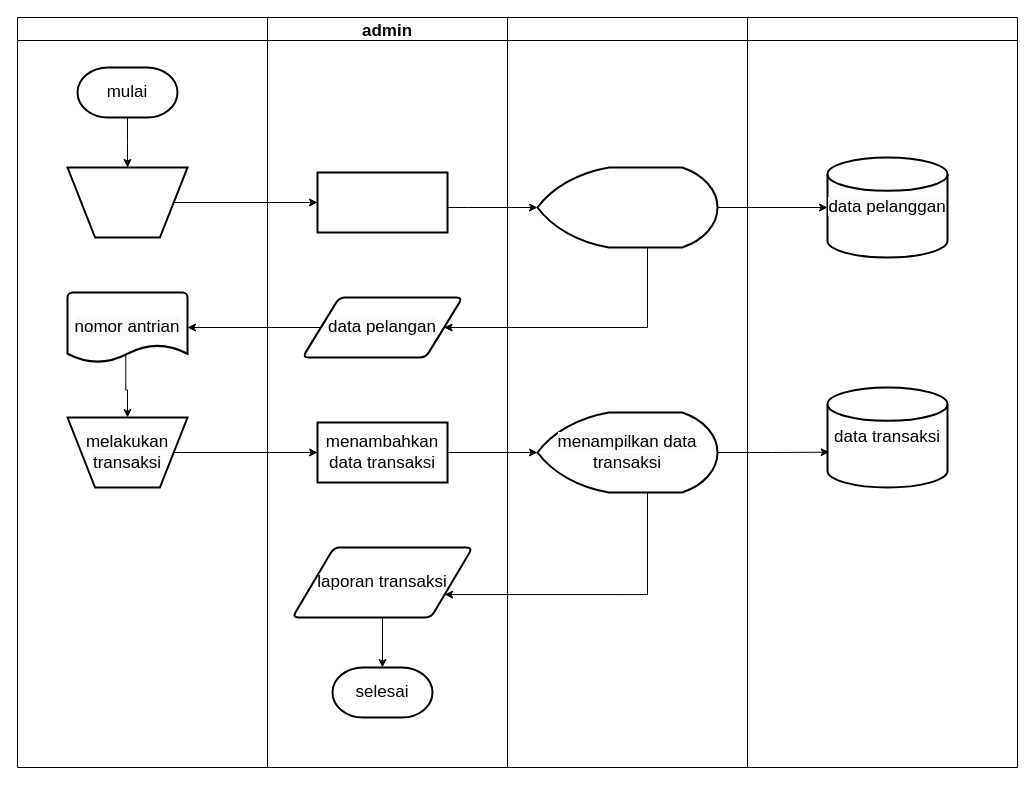
Some shapes in this 1035 by 785 pixel diagram are drawn without their labels. The box of each missing label's shape, as (x1, y1, x2, y2) in pixels:
aplikasi layanan kasir: (506, 16, 748, 768)
database: (746, 16, 1018, 768)
memesan layanan laundry: (66, 166, 188, 238)
menambahkan data pelanggan: (316, 171, 448, 233)
menampilkan data pelanggan: (536, 166, 718, 248)
pelanggan: (16, 16, 268, 768)
